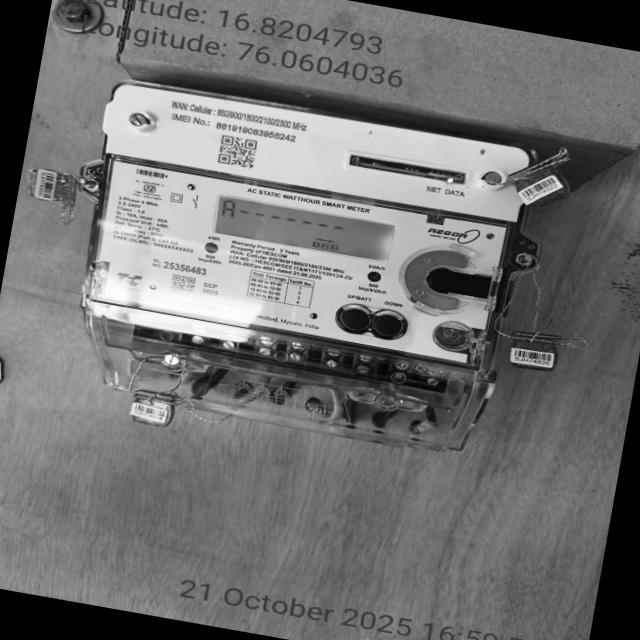meter: (67, 75, 526, 394)
